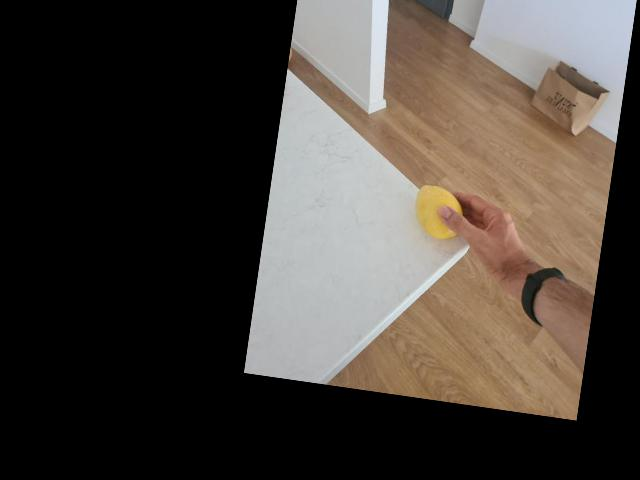lemon: (412, 187, 468, 239)
